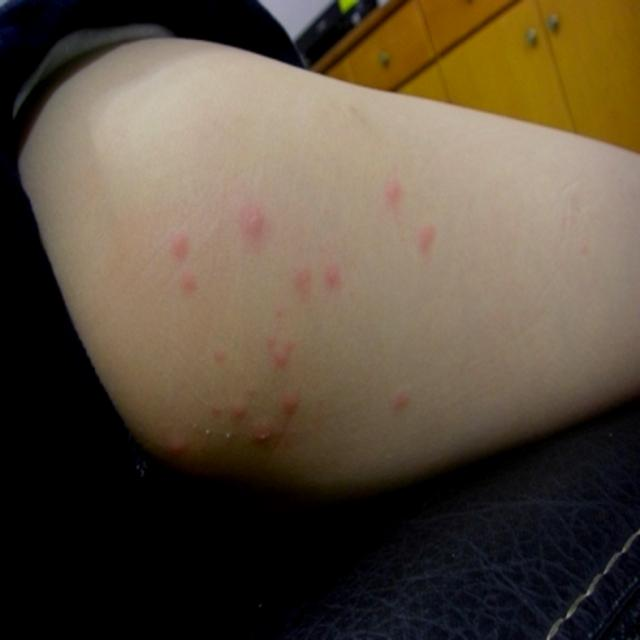piel: (5, 27, 640, 524)
